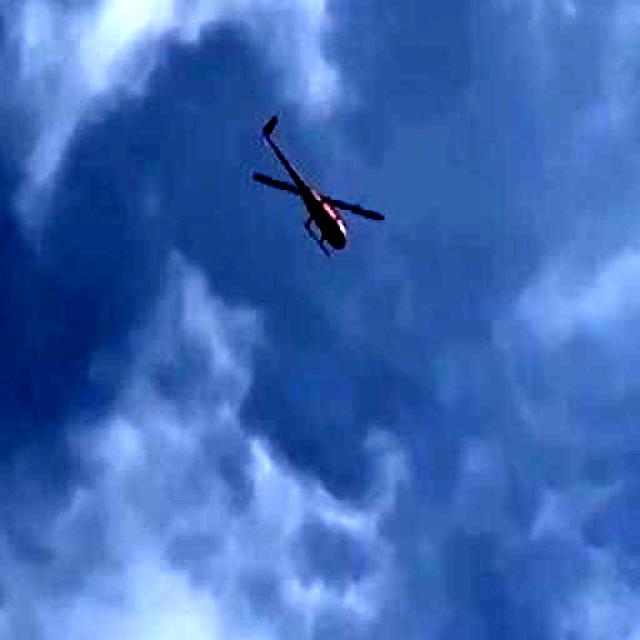drone: (208, 76, 399, 320)
